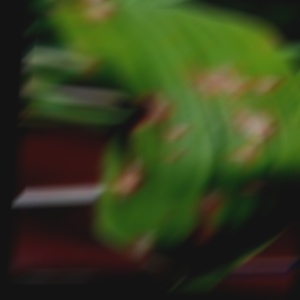Brown_Spot: (187, 57, 281, 100), (225, 104, 295, 149), (117, 84, 173, 137), (108, 151, 148, 196), (76, 0, 117, 32), (74, 48, 115, 80), (123, 224, 159, 253), (154, 141, 191, 165), (163, 120, 188, 140)
